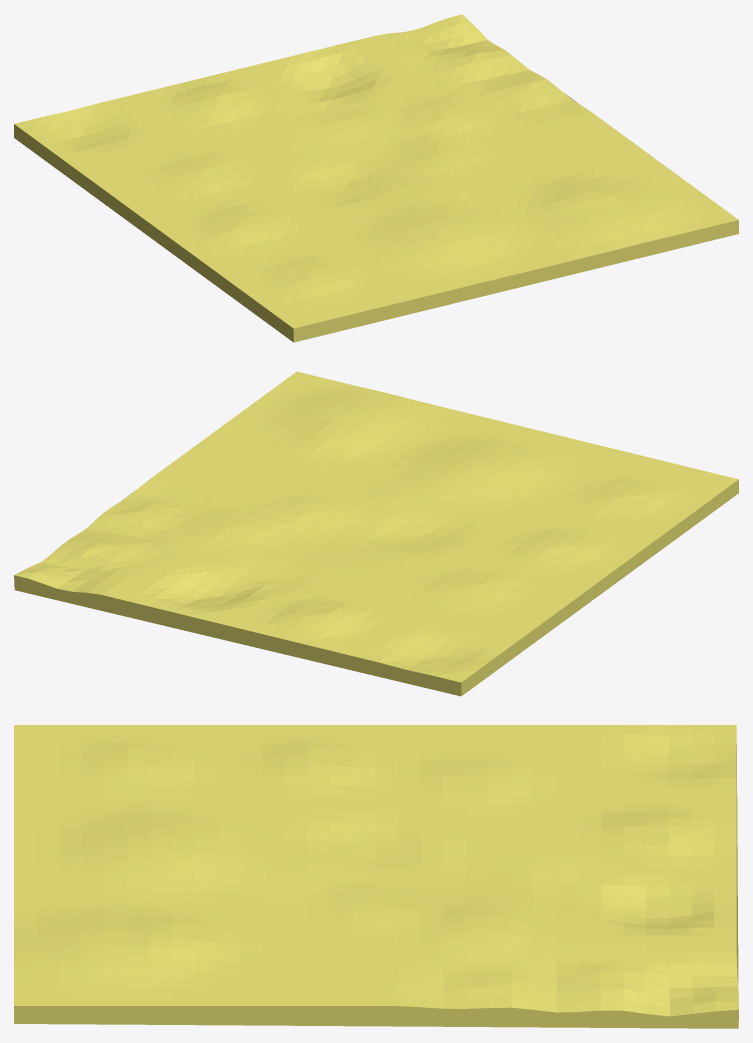
File: solsable 1.fbx
3 renders of one model, top to bottom at view 1: azimuth 30°, elevation 25°; view 2: azimuth 150°, elevation 25°; view 3: azimuth 270°, elevation 25°, orthographic. The views are drawn at different scales.
Parts seen in each view (by area): view 1: Cube; view 2: Cube; view 3: Cube.
Boxes of the visible parts, left/top/right/bottom form: Cube: left=14, top=14, right=738, bottom=342; Cube: left=14, top=371, right=738, bottom=696; Cube: left=14, top=725, right=738, bottom=1028.
Bounding box in the file's own units: 26001 × 1141 × 28105.
